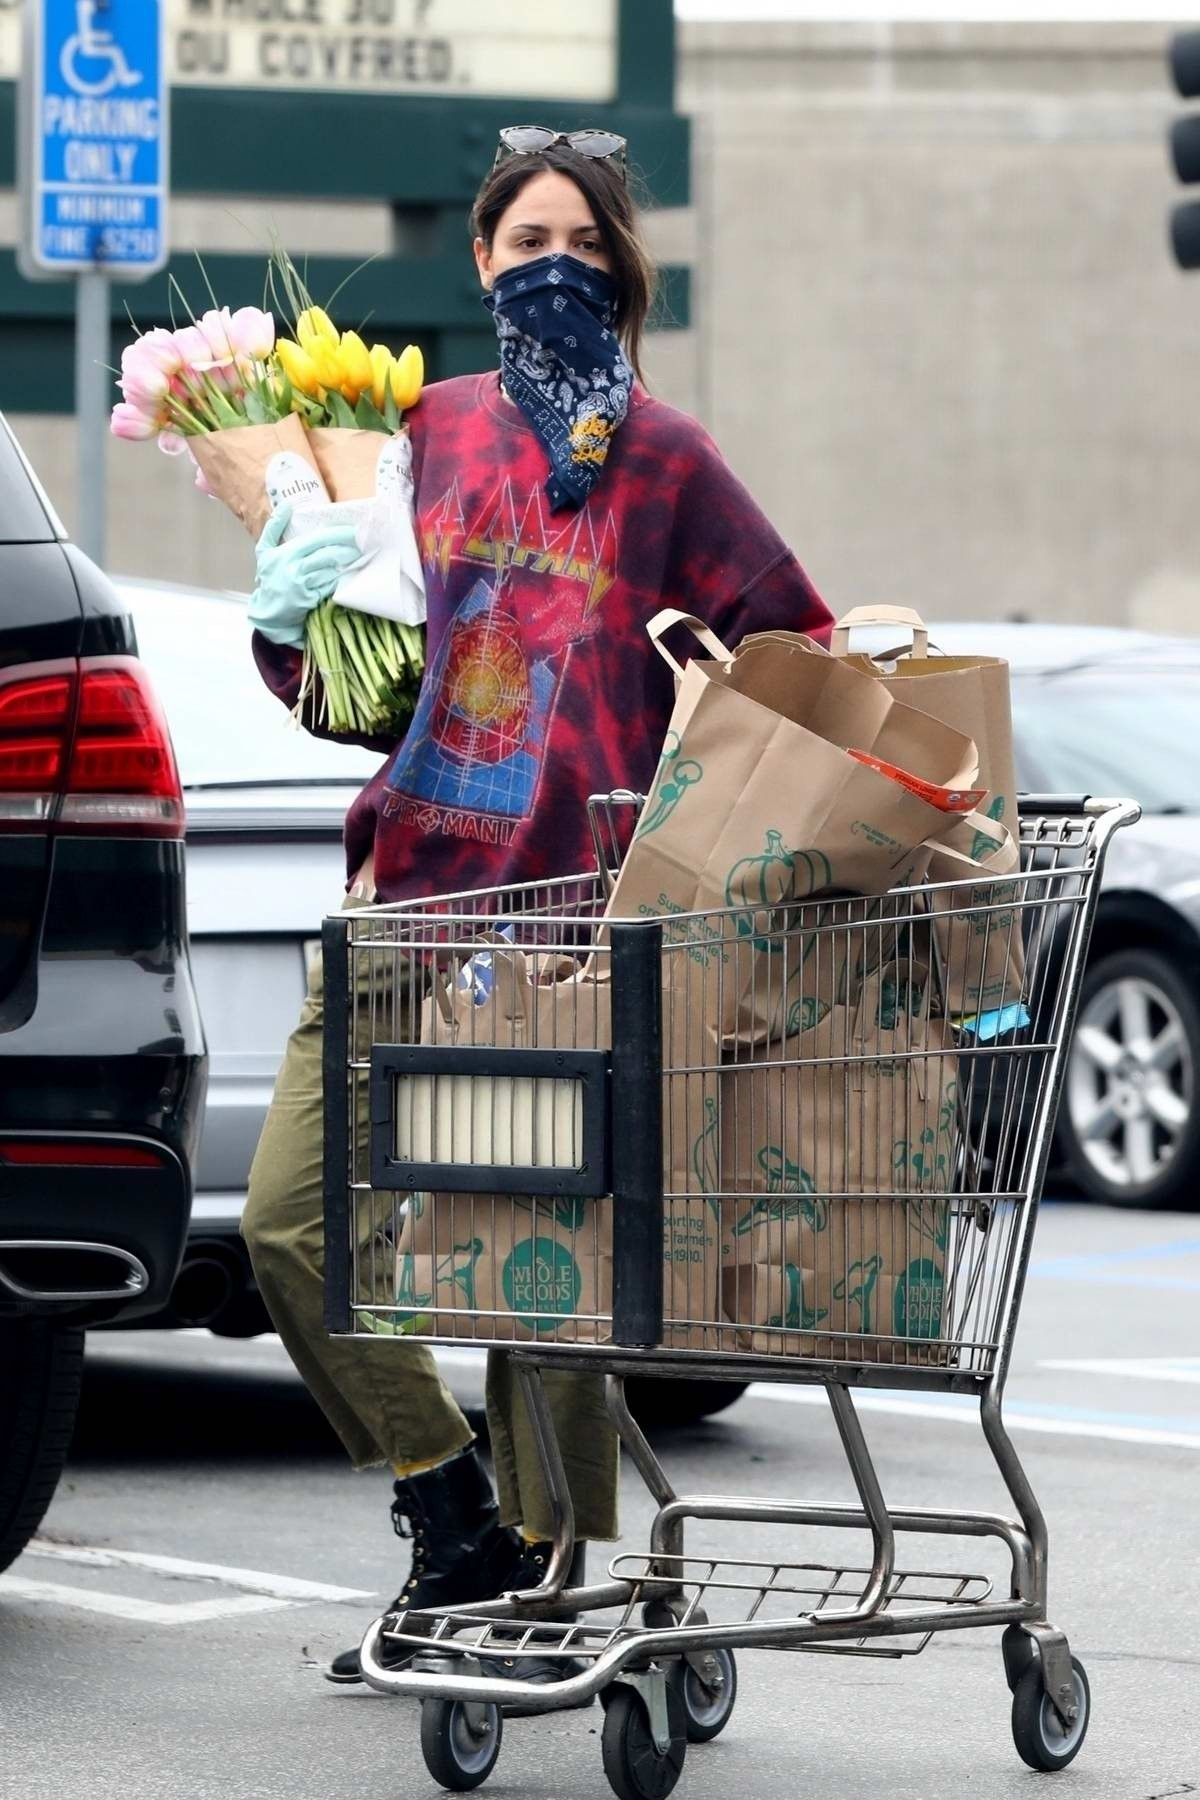face_with_mask: (467, 136, 644, 358)
